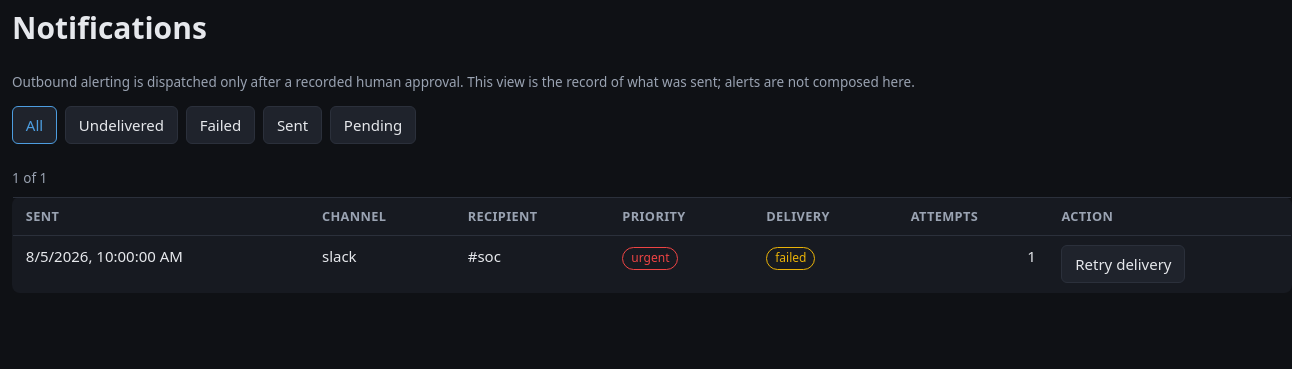
Test: NotificationsPage › reports a refused retry rather than implying it worked
Click the button "Retry delivery": [1123, 264] box [1061,245,1185,283]
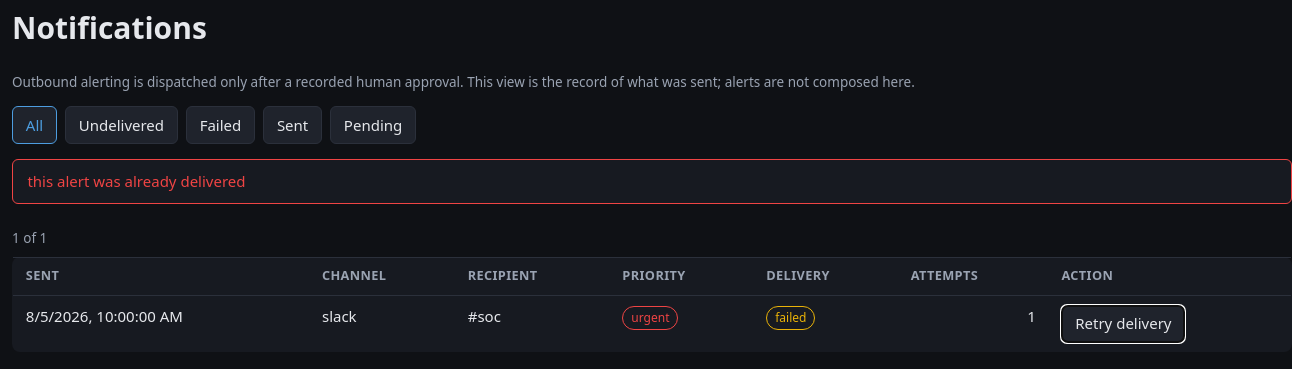
Result: the message shows "already delivered" at [27,171,246,191]
